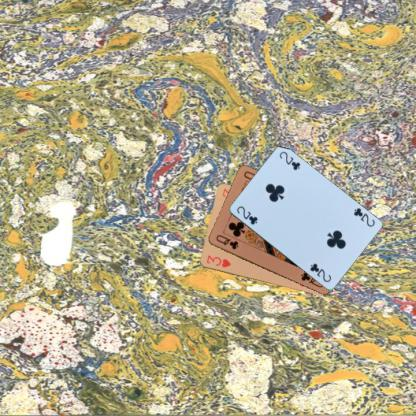2c: (234, 203, 259, 226), (351, 205, 376, 228)
3h: (204, 252, 232, 269)
Qc: (213, 232, 240, 251)
